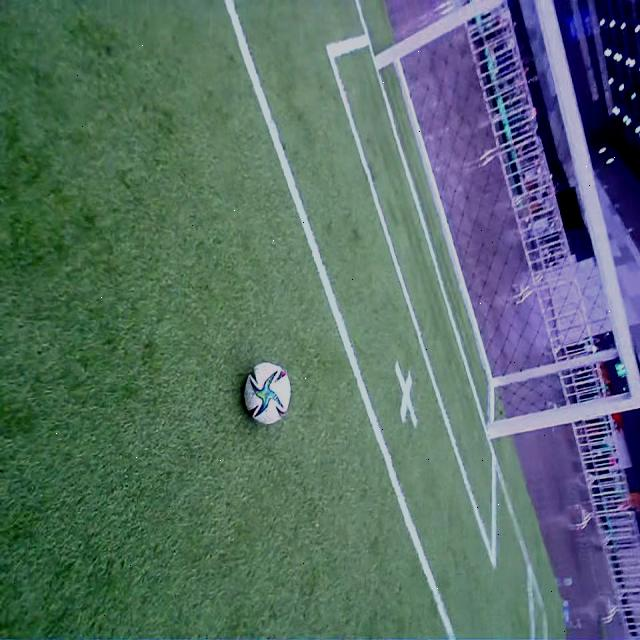ball: (243, 361, 291, 425)
